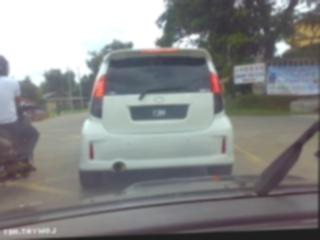License_Plate: (137, 101, 179, 123)
